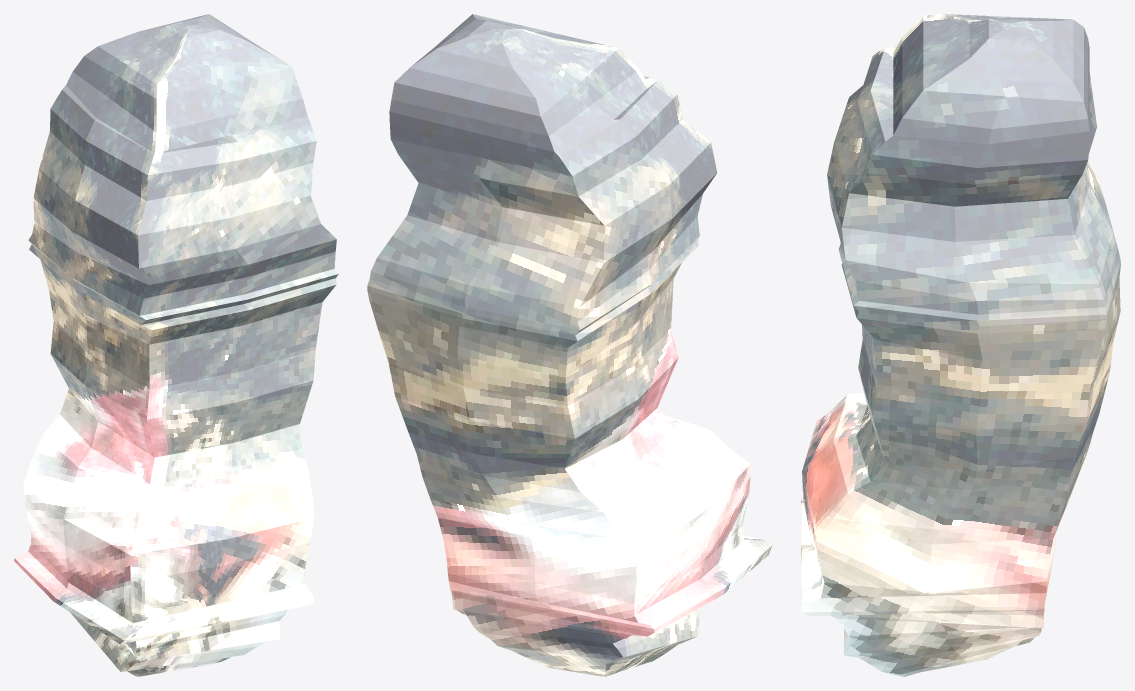
File: metamorphosis_v3_txt.glb
3 views of the same model, side by side, from view 1: azimuth 30°, elevation 25°; view 2: azimuth 150°, elevation 25°; view 3: azimuth 270°, elevation 25° (orthographic). The views are drawn at different scales.
Visible parts, largest first — view 1: Cube; view 2: Cube; view 3: Cube.
Part boxes in pixels (x1,y1,x2,y2): Cube: [14, 14, 338, 676]; Cube: [367, 14, 772, 676]; Cube: [801, 14, 1120, 676].
Bounding box in the file's own units: 1.99 × 4.36 × 1.89.
